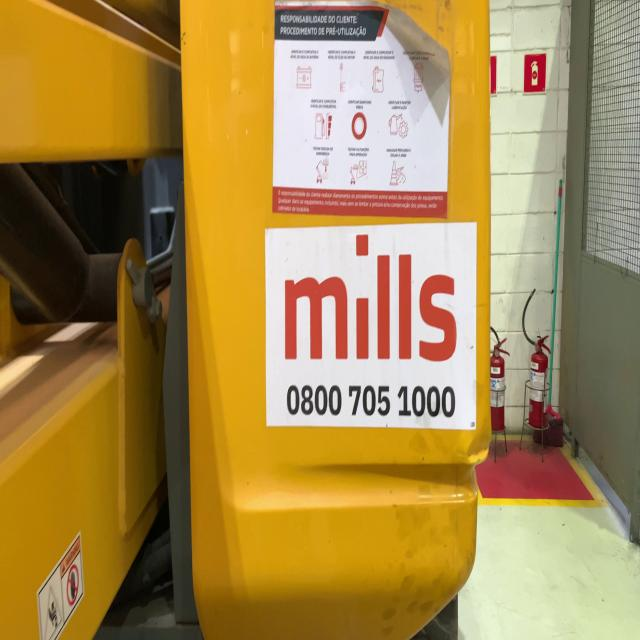Adesivos: (263, 218, 479, 433)
